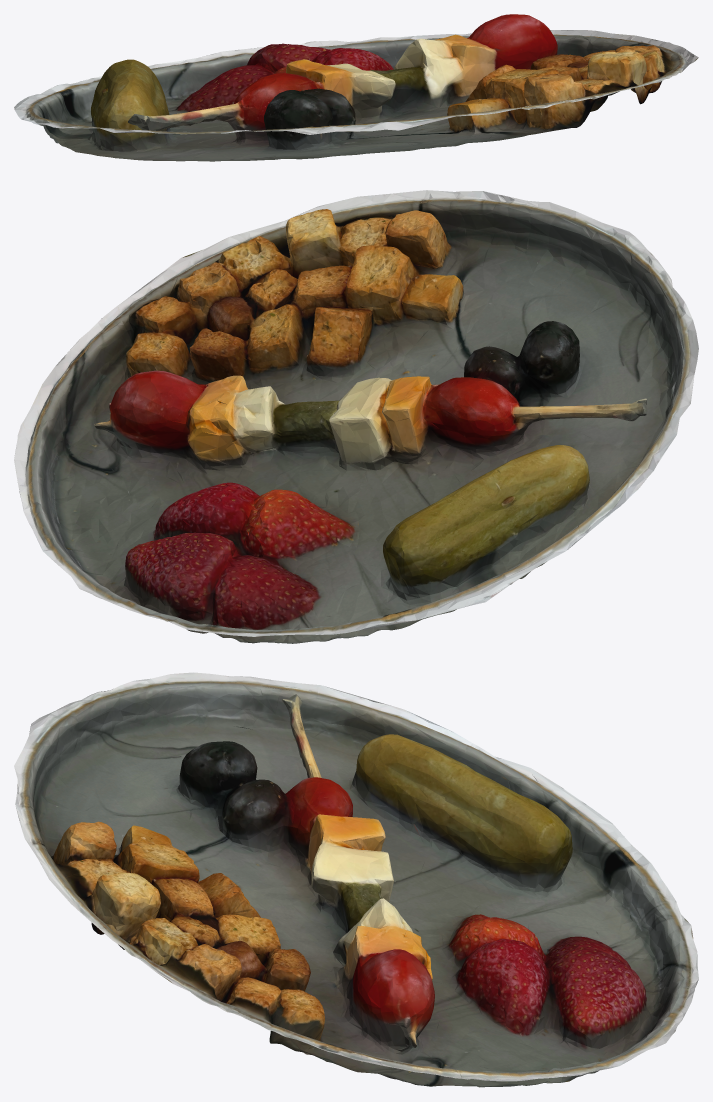
Rendered from tabua.glb.
The picture shows the model from 3 angles, top to bottom: view 1: azimuth 30°, elevation 25°; view 2: azimuth 150°, elevation 25°; view 3: azimuth 270°, elevation 25°; orthographic projection. The views are drawn at different scales.
Parts seen in each view (by area): view 1: geometry_0; view 2: geometry_0; view 3: geometry_0.
Part boxes in pixels (left/top/right/bottom): geometry_0: left=14, top=14, right=698, bottom=161; geometry_0: left=14, top=190, right=698, bottom=643; geometry_0: left=14, top=672, right=698, bottom=1087.
Size of the model in its own units: 0.2962 by 0.1008 by 0.2802.
1 material, 1 textured.
